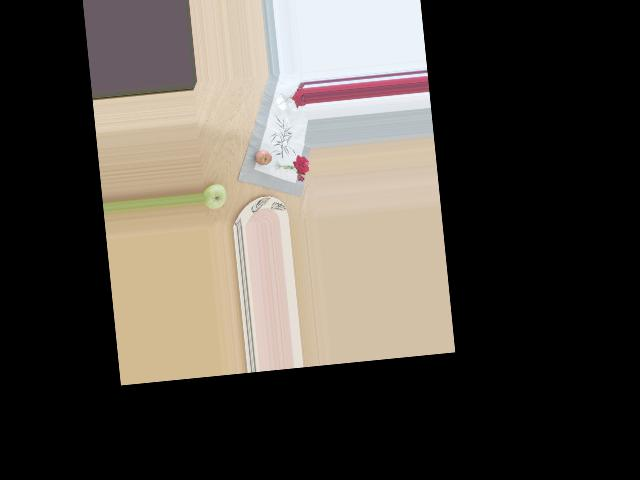apple: (201, 182, 228, 211)
